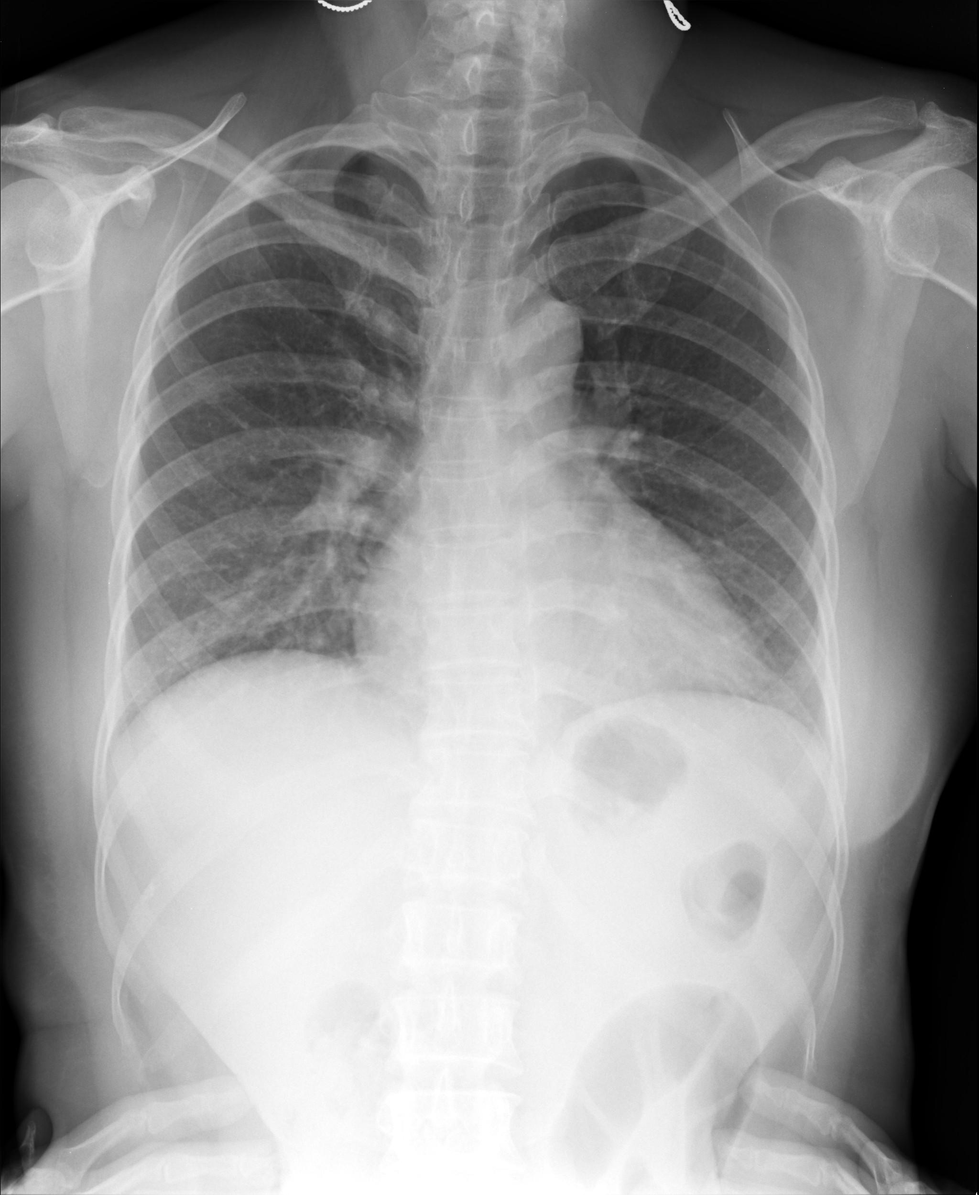Cardiomegaly: (348, 597, 764, 693)
